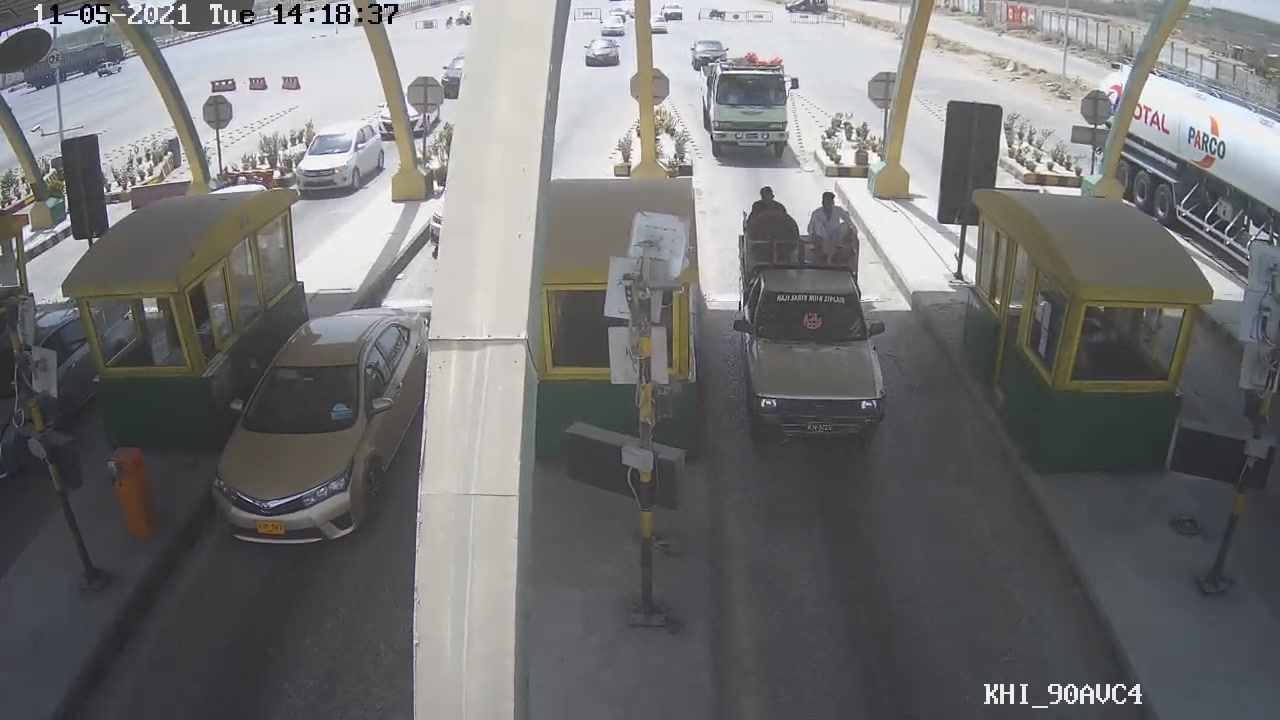F1: (723, 226, 899, 456)
